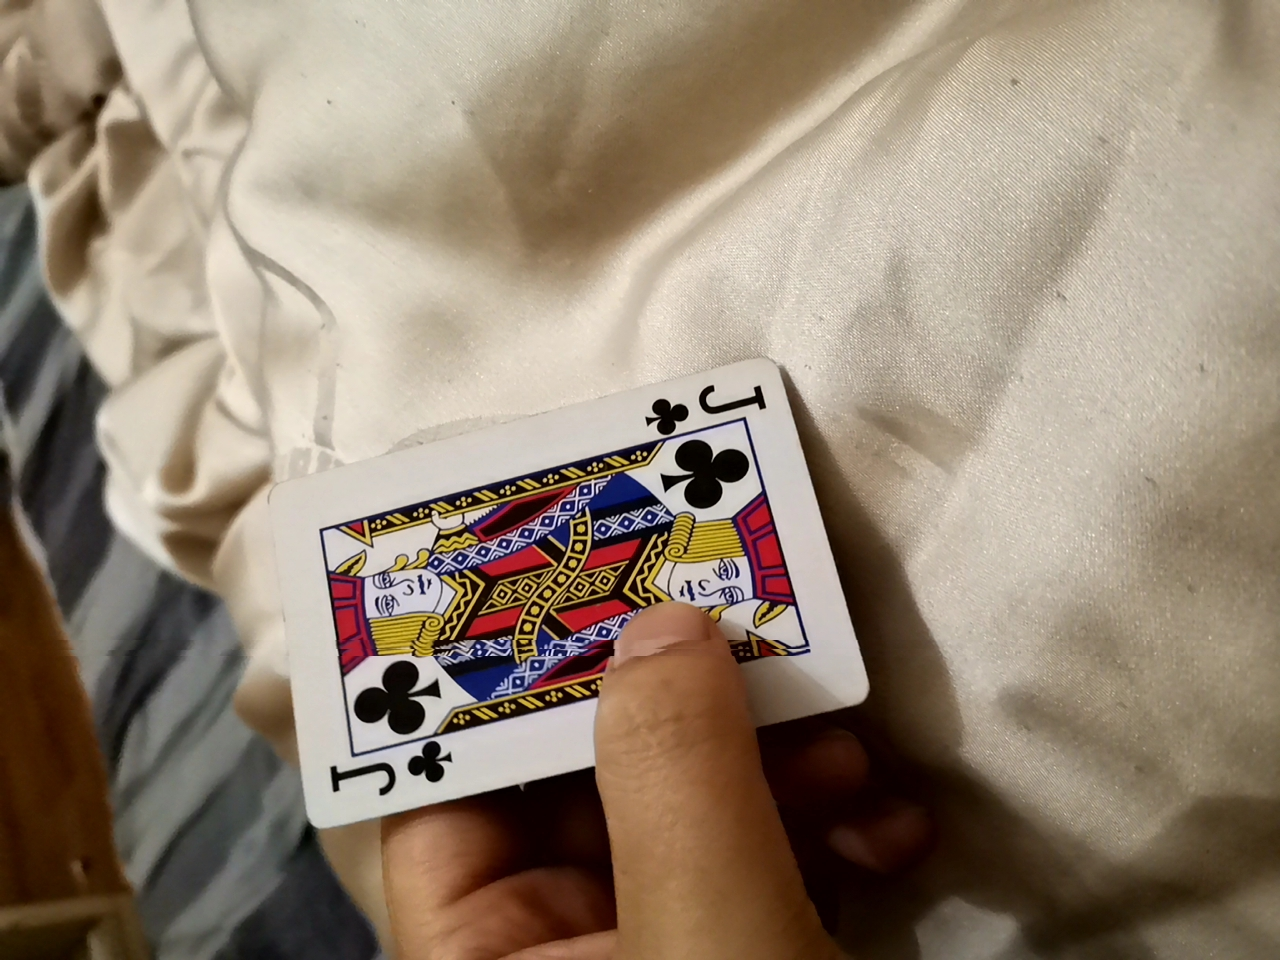mh j: (250, 373, 836, 837)
